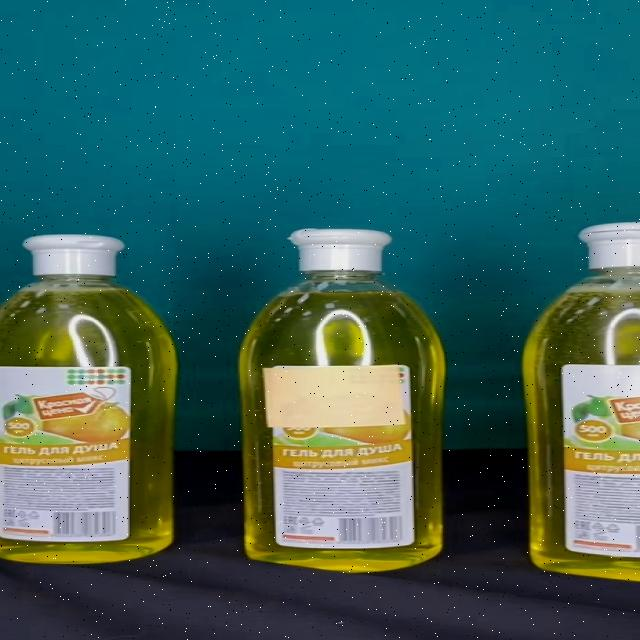Bottle: (241, 228, 447, 572), (0, 234, 178, 563)
Cap: (288, 228, 392, 270), (21, 234, 125, 276)
